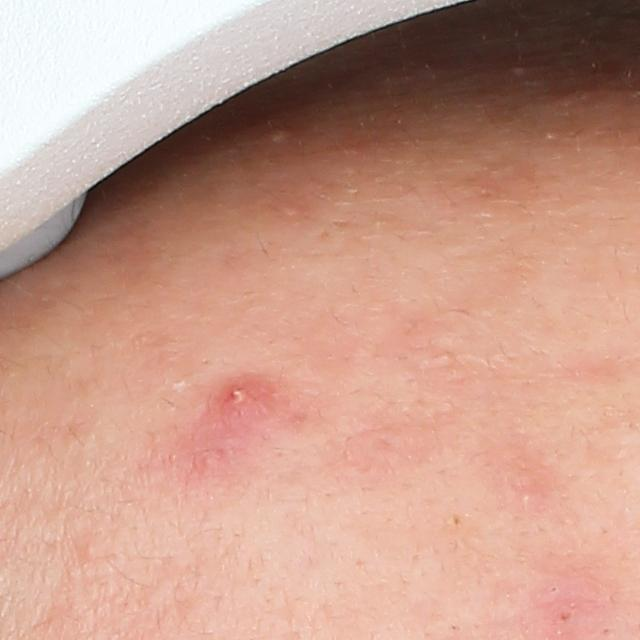comedo: (84, 540, 102, 559), (435, 349, 454, 363)
